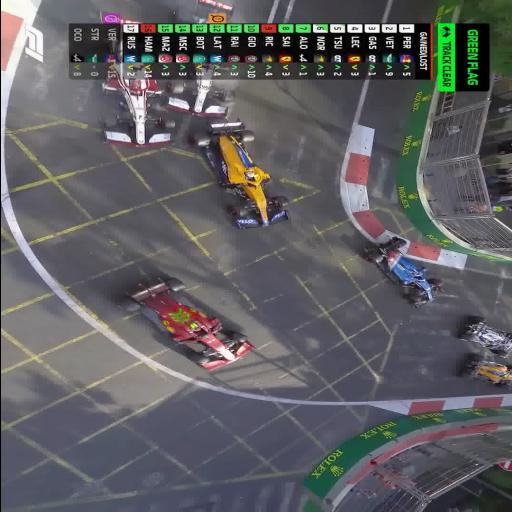f1_car: (121, 278, 253, 370), (192, 119, 289, 229), (102, 26, 174, 147), (364, 237, 442, 308), (154, 63, 234, 118), (458, 316, 512, 358), (458, 353, 512, 387), (112, 18, 138, 23), (102, 16, 104, 19), (108, 59, 110, 62), (112, 15, 114, 16), (161, 109, 163, 110), (115, 16, 116, 17)
